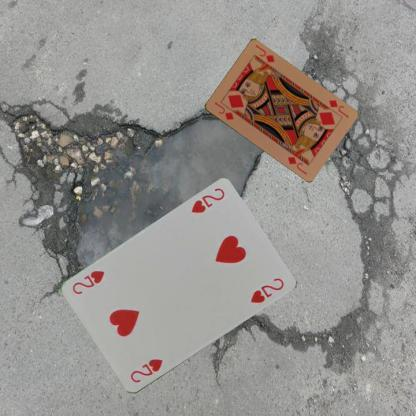2h: (188, 185, 226, 215), (127, 356, 164, 385)
Jd: (326, 97, 349, 119), (212, 100, 234, 122)
